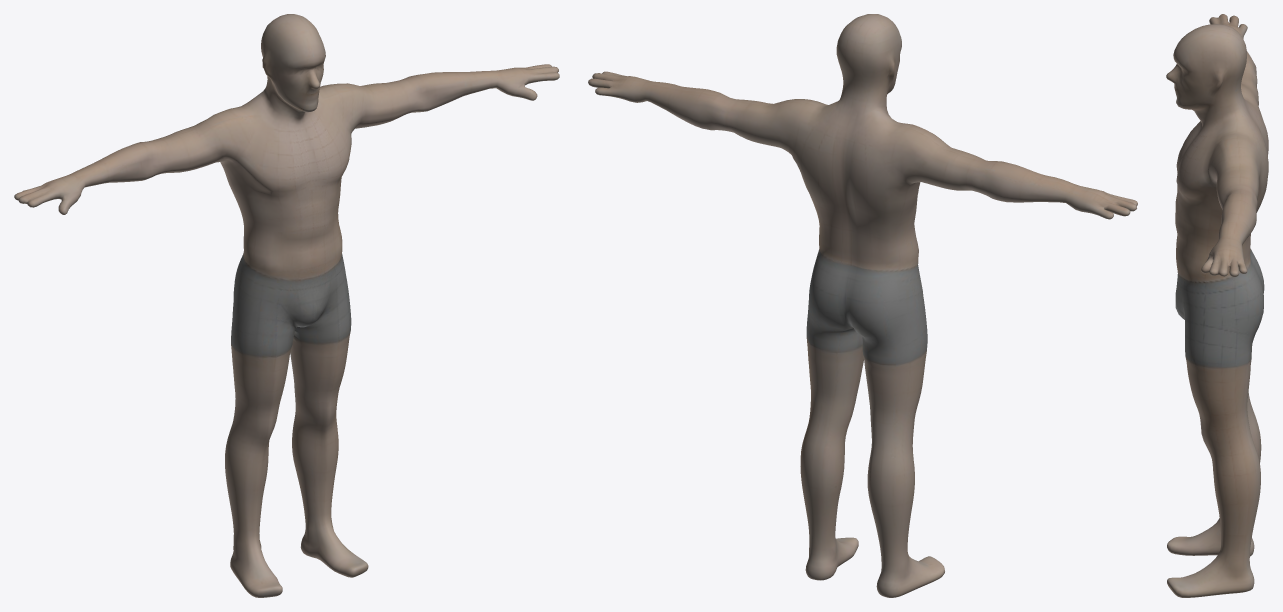
File: humanoid+character+3d+model.glb
The picture shows the model from 3 angles, left to right: view 1: azimuth 30°, elevation 25°; view 2: azimuth 150°, elevation 25°; view 3: azimuth 270°, elevation 25°; orthographic projection. The views are drawn at different scales.
Parts seen in each view (by area): view 1: tripo_node_defb4c1a-e4dc-4334-b3bc-2adbce880cfa; view 2: tripo_node_defb4c1a-e4dc-4334-b3bc-2adbce880cfa; view 3: tripo_node_defb4c1a-e4dc-4334-b3bc-2adbce880cfa.
Boxes of the visible parts, x1=… form: tripo_node_defb4c1a-e4dc-4334-b3bc-2adbce880cfa: x1=14, y1=14, x2=559, y2=597; tripo_node_defb4c1a-e4dc-4334-b3bc-2adbce880cfa: x1=588, y1=14, x2=1137, y2=597; tripo_node_defb4c1a-e4dc-4334-b3bc-2adbce880cfa: x1=1166, y1=14, x2=1268, y2=597.
Size of the model in its own units: 0.9997 by 0.9817 by 0.1672.
1 material, 1 textured.
